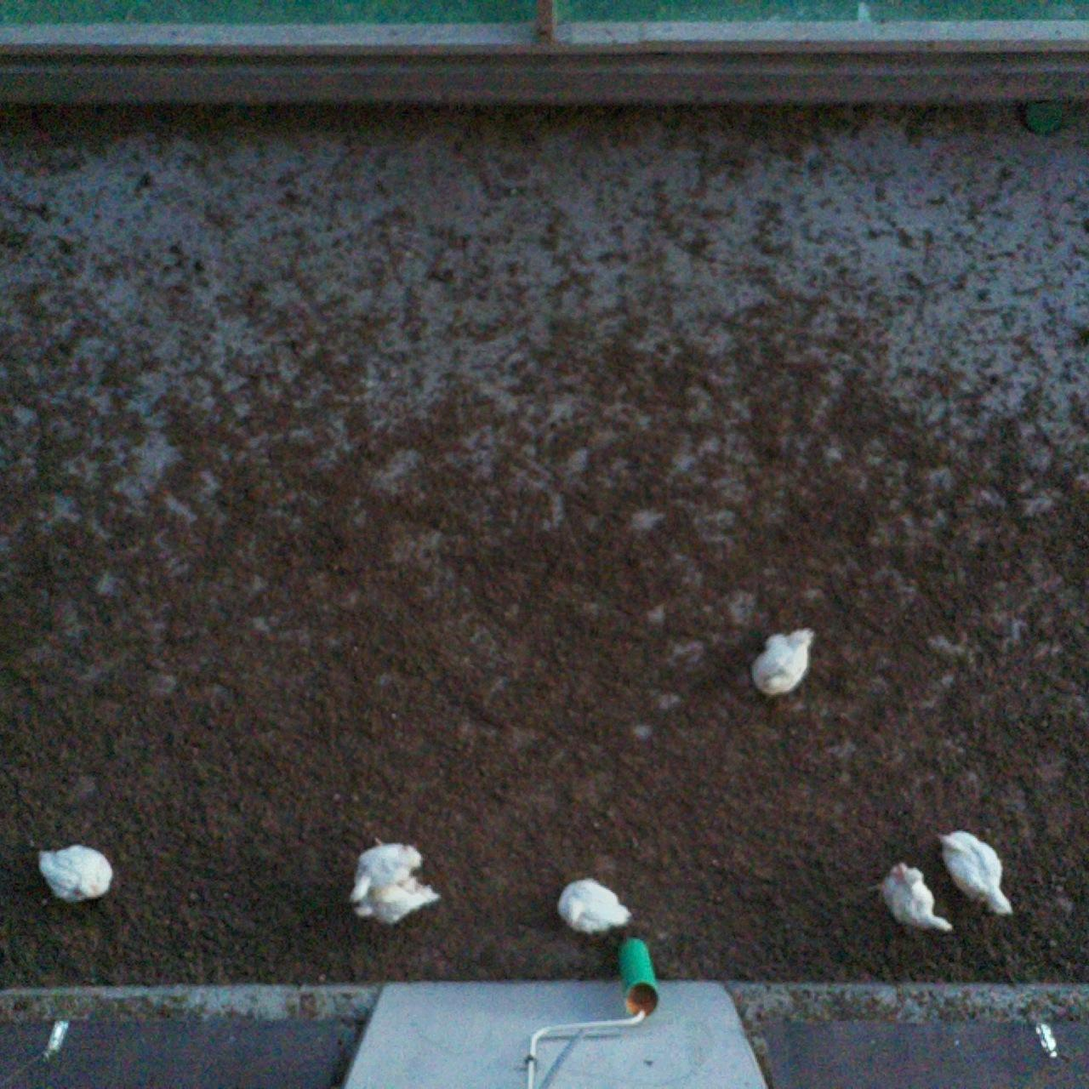chicken: (928, 815, 1021, 926), (870, 856, 955, 947), (32, 835, 119, 916), (746, 617, 820, 712), (550, 870, 637, 943), (344, 832, 426, 907), (353, 873, 443, 930)
